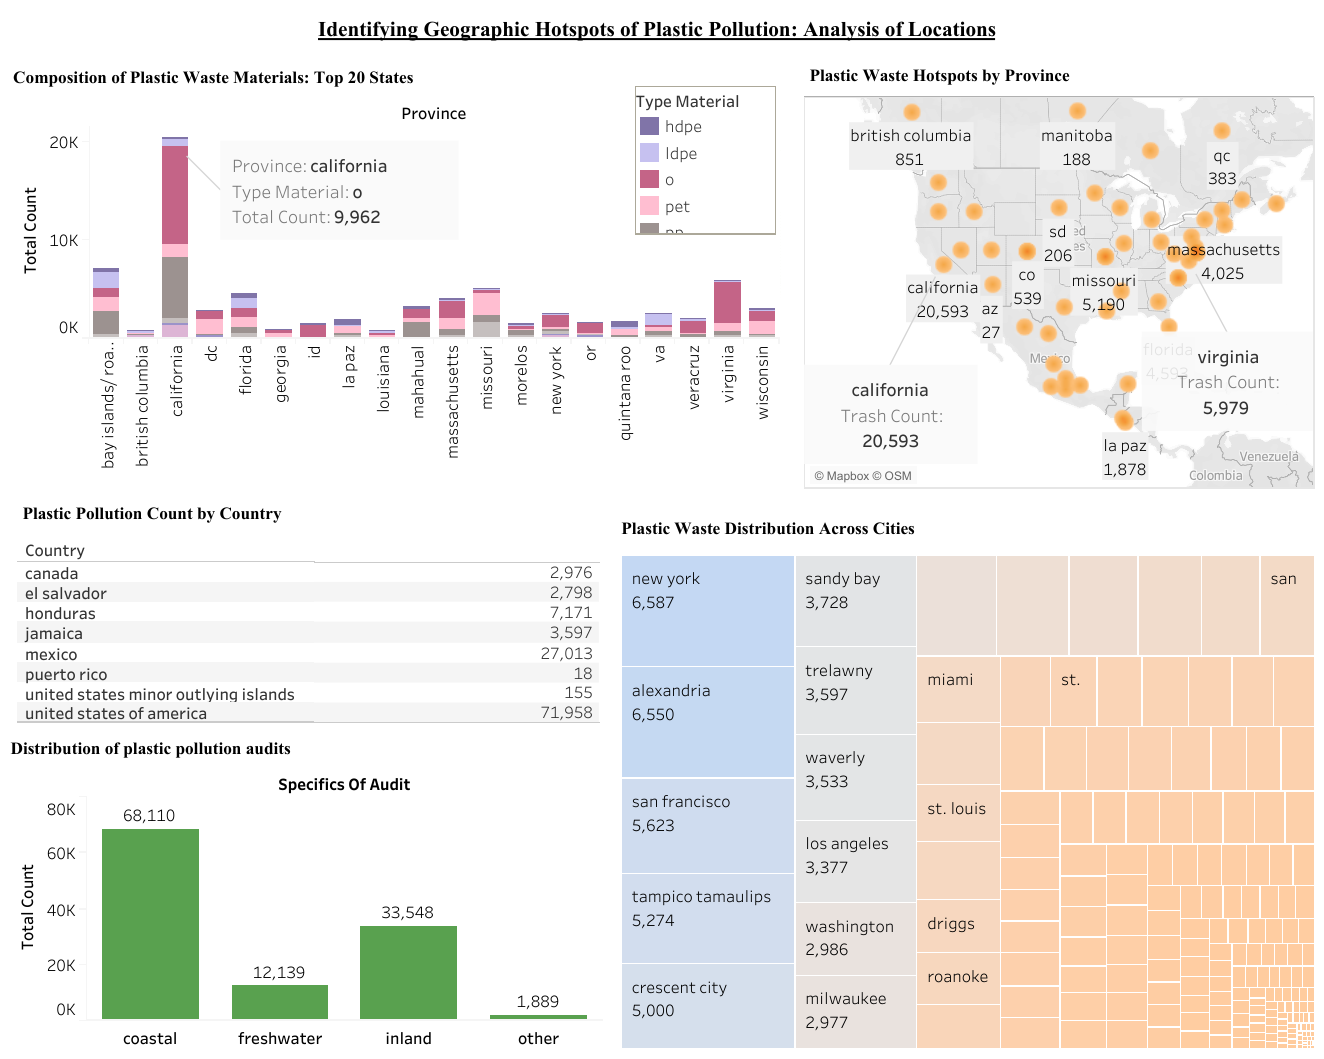

This screenshot's page, from the dashboard's own definition file:
{"tool":"tableau","page":{"name":"Final Dashboard","canvas":[1000,800],"ordinal":0},"visuals":[{"type":"worksheet","title":"Sheet 2","mark":"Heatmap","box":[607,43,386,326]},{"type":"worksheet","title":"Sheet 4","mark":"Automatic","rows":["total_count"],"cols":["province"],"box":[6,45,582,310]},{"type":"legend","title":"Sheet 4","param":"[federated.1noyi1m1gxmsty1cjjxp2006eqeb].[none:type_material:nk]","box":[479,65,107,112]},{"type":"worksheet","title":"Sheet 1","mark":"Automatic","rows":["country"],"box":[13,374,440,172]},{"type":"worksheet","title":"Sheet 6","mark":"Automatic","box":[465,385,531,410]},{"type":"worksheet","title":"Sheet 5","mark":"Automatic","rows":["total_count"],"cols":["specifics_of_audit"],"box":[4,551,451,241]}]}

Visuals, with their boxes in screenshot pixels (x1, y1, x2, y2), scaled from the page's 1000x800 canvas onto the 1324x1059 screenshot:
"Sheet 2" worksheet (Heatmap marks): {"x1": 804, "y1": 57, "x2": 1315, "y2": 488}
"Sheet 4" worksheet: {"x1": 8, "y1": 60, "x2": 779, "y2": 470}
"Sheet 4" legend: {"x1": 634, "y1": 86, "x2": 776, "y2": 234}
"Sheet 1" worksheet: {"x1": 17, "y1": 495, "x2": 600, "y2": 723}
"Sheet 6" worksheet: {"x1": 616, "y1": 510, "x2": 1319, "y2": 1052}
"Sheet 5" worksheet: {"x1": 5, "y1": 729, "x2": 602, "y2": 1048}
